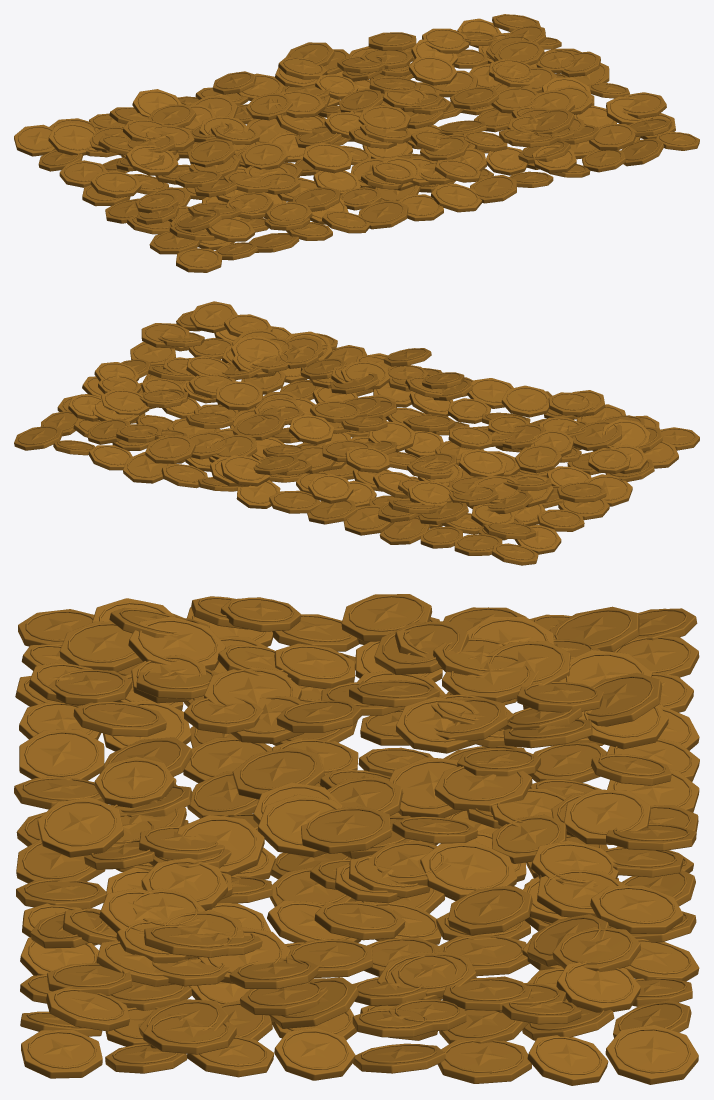
File: royal_chest_coins.obj
3 renders of one model, top to bottom at view 1: azimuth 30°, elevation 25°; view 2: azimuth 150°, elevation 25°; view 3: azimuth 270°, elevation 25°, orthographic. The views are drawn at different scales.
Size of the model in its own units: 1.45 by 0.0997 by 0.8946.
